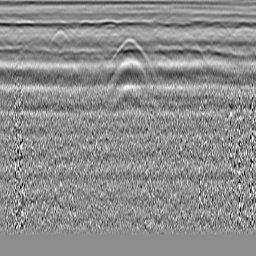cavity: (106, 37, 150, 61)
